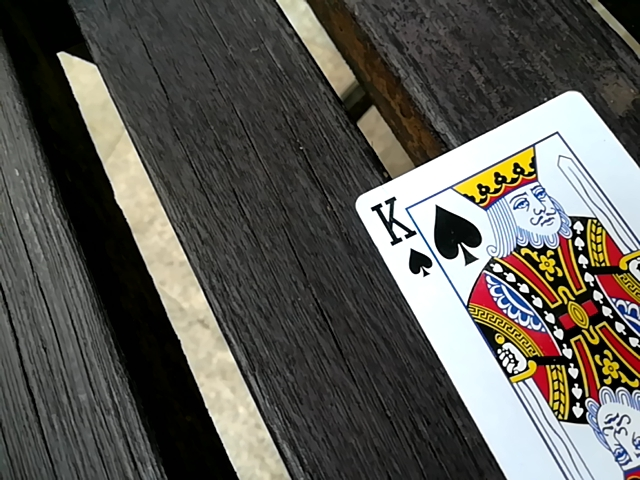ht k: (354, 88, 639, 480)
